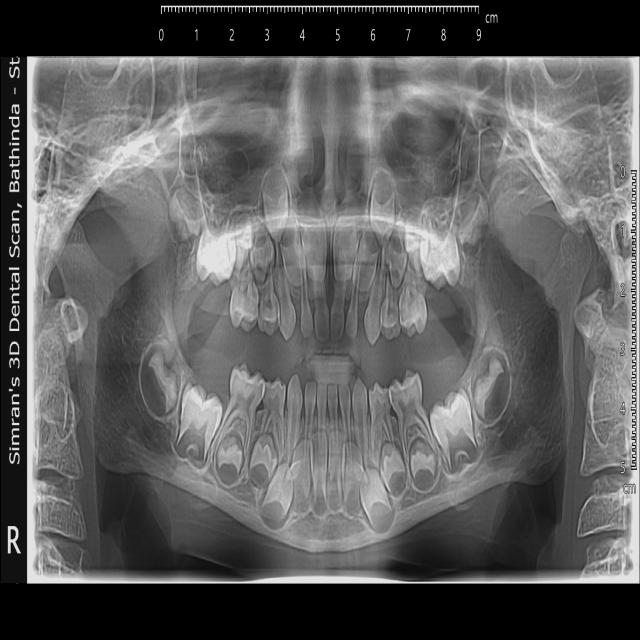Missing teeth: (179, 339, 224, 396), (424, 350, 467, 404)
